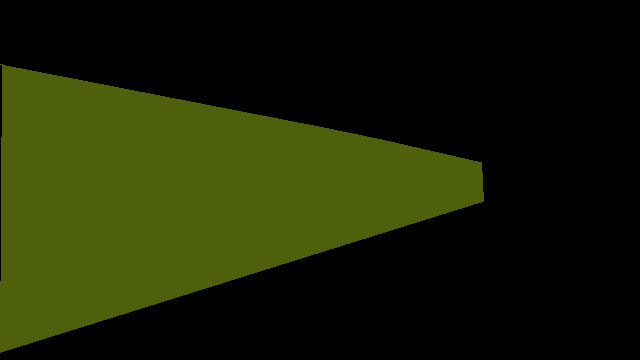Train: (0, 64, 483, 352)
